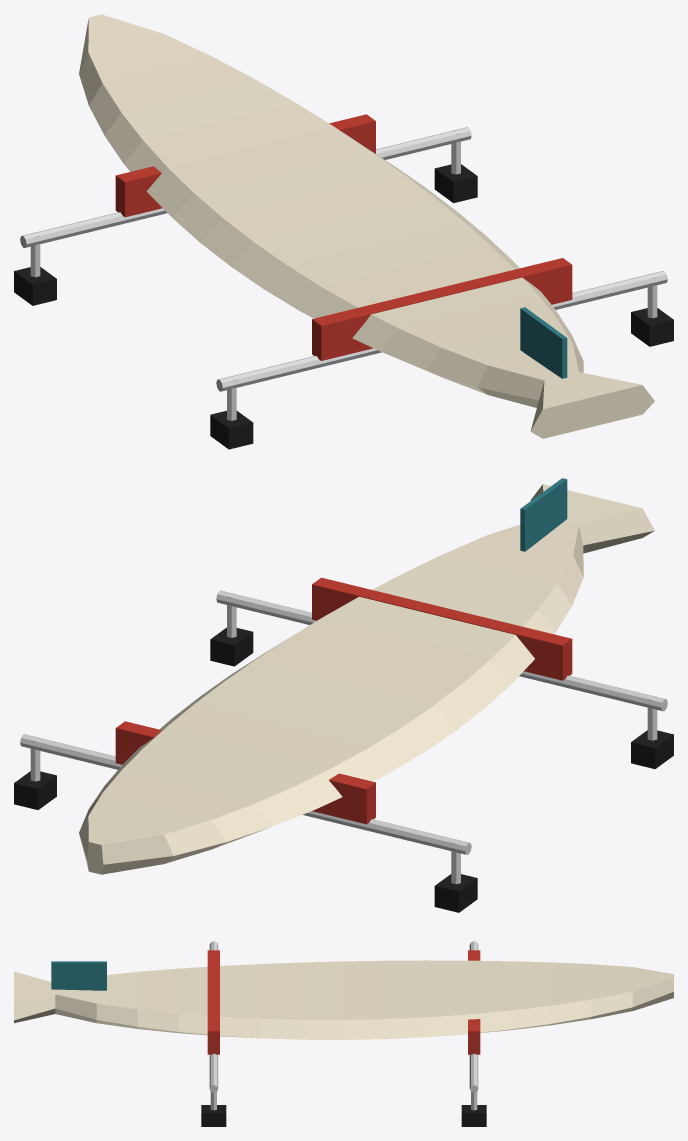
The model's file is roofrack_surf.glb.
3 views of the same model, one above another, from view 1: azimuth 30°, elevation 25°; view 2: azimuth 150°, elevation 25°; view 3: azimuth 270°, elevation 25° (orthographic). The views are drawn at different scales.
Visible parts, largest first — view 1: Surfboard, RoofRack; view 2: Surfboard, RoofRack; view 3: Surfboard, RoofRack.
Part boxes in pixels (x1,y1,x2,y2): Surfboard: [79, 14, 654, 438]; RoofRack: [14, 127, 673, 449]; Surfboard: [79, 478, 654, 874]; RoofRack: [14, 590, 673, 912]; Surfboard: [14, 950, 673, 1054]; RoofRack: [201, 941, 486, 1126].
Size of the model in its own units: 1.1 by 0.33 by 2.13.
